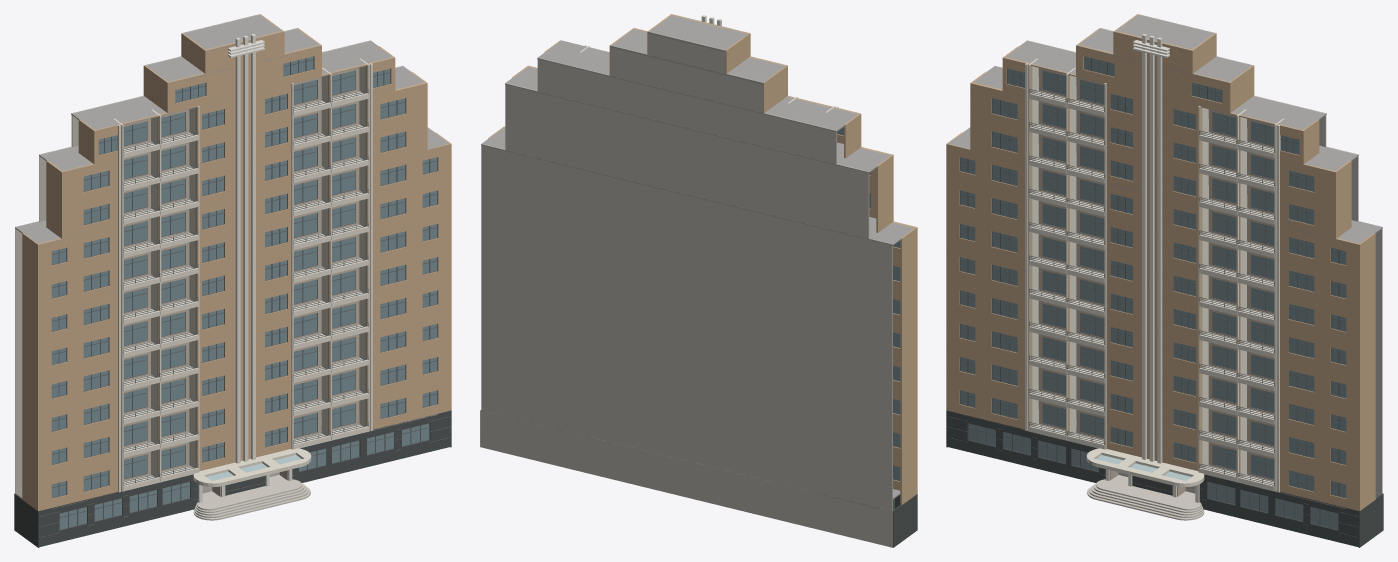
File: xuhui-gascogne-apartments-main-building-lod.glb
The picture shows the model from 3 angles, left to right: view 1: azimuth 30°, elevation 25°; view 2: azimuth 150°, elevation 25°; view 3: azimuth 330°, elevation 25°; orthographic projection.
Visible parts, largest first — view 1: 盖司康公寓主楼南向前院立面; view 2: 盖司康公寓主楼南向前院立面; view 3: 盖司康公寓主楼南向前院立面.
Boxes of the visible parts, x1,y1,x2,y2 form: 盖司康公寓主楼南向前院立面: (14, 14, 451, 547); 盖司康公寓主楼南向前院立面: (480, 14, 917, 547); 盖司康公寓主楼南向前院立面: (946, 14, 1383, 547).
Bounding box in the file's own units: 49.26 × 52.51 × 8.55.
